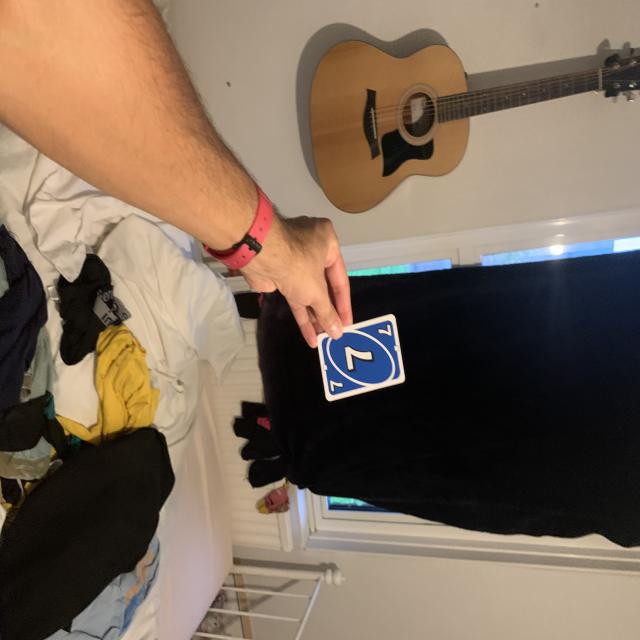lblue-7: (374, 320, 395, 342)
